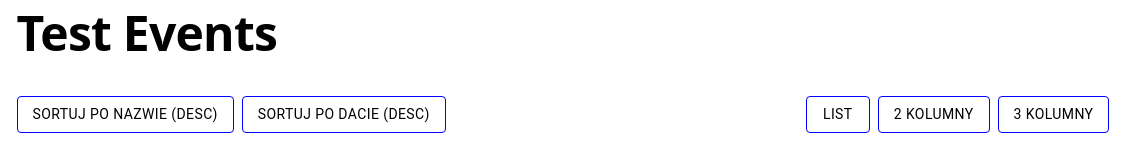
Test case: EventList component › changes sorting when clicking sorting buttons
Click the button "Sortuj po nazwie (desc)" at (125, 114), box [17,96,234,132]
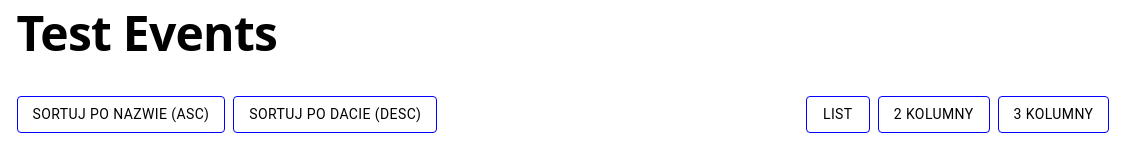
Result: the button "Sortuj po nazwie (desc)" reads "Sortuj po nazwie (asc)" at [17,96,225,132]
Click the button "Sortuj po dacie (desc)" at (335, 114), box [233,96,437,132]
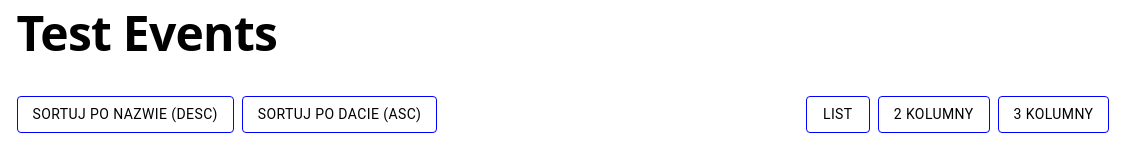
Result: the button "Sortuj po dacie (desc)" reads "Sortuj po dacie (asc)" at [242,96,437,132]
